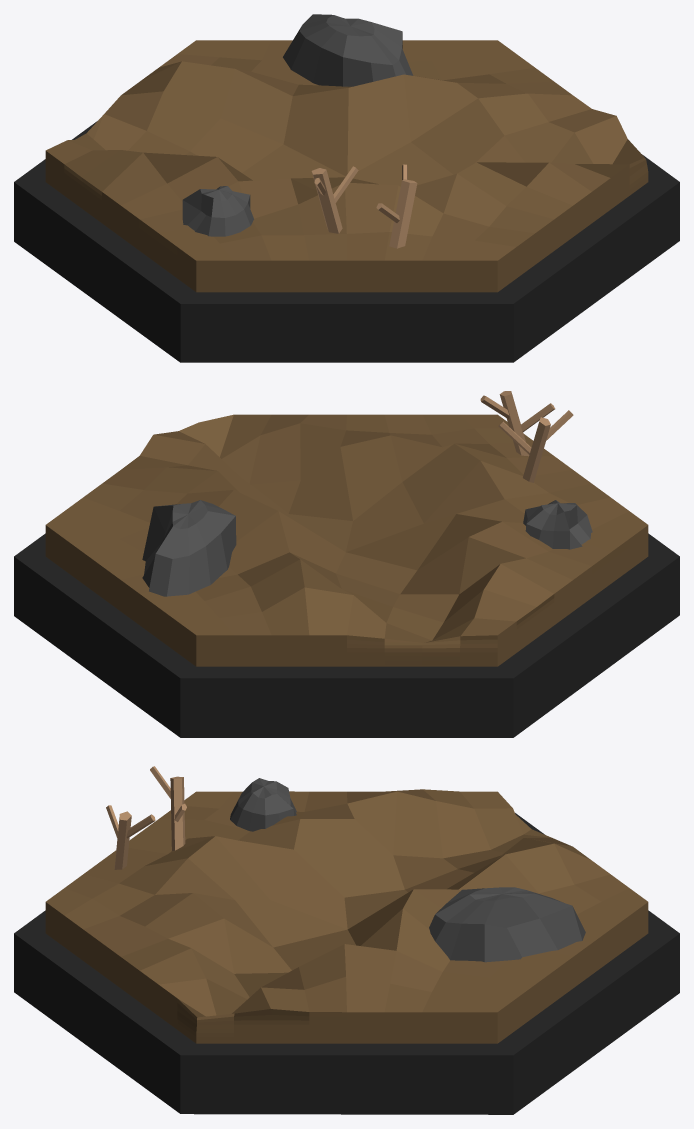
Rendered from biome_wasteland.fbx.
3 renders of one model, top to bottom at view 1: azimuth 30°, elevation 25°; view 2: azimuth 150°, elevation 25°; view 3: azimuth 270°, elevation 25°, orthographic.
Parts seen in each view (by area): view 1: Hexagon.001, Hexagon, Sphere.001, Sphere, Cylinder.002, Cylinder.001; view 2: Hexagon.001, Hexagon, Sphere.001, Sphere, Cylinder.001, Cylinder.002; view 3: Hexagon.001, Hexagon, Sphere.001, Sphere, Cylinder.001, Cylinder.002.
Part boxes in pixels (x1,y1,x2,y2): Hexagon.001: (45,40,648,292); Hexagon: (14,121,679,362); Sphere.001: (283,14,413,86); Sphere: (182,186,253,236); Cylinder.002: (376,164,417,248); Cylinder.001: (311,166,358,233); Hexagon.001: (45,414,648,666); Hexagon: (14,533,679,737); Sphere.001: (142,500,236,596); Sphere: (523,500,592,549); Cylinder.001: (498,410,573,482); Cylinder.002: (480,391,555,456); Hexagon.001: (45,789,648,1043); Hexagon: (14,813,679,1114); Sphere.001: (429,887,585,962); Sphere: (230,778,296,831); Cylinder.001: (150,766,186,850); Cylinder.002: (106,805,155,869).
Bounding box in the file's own units: 173 × 54.81 × 200.
